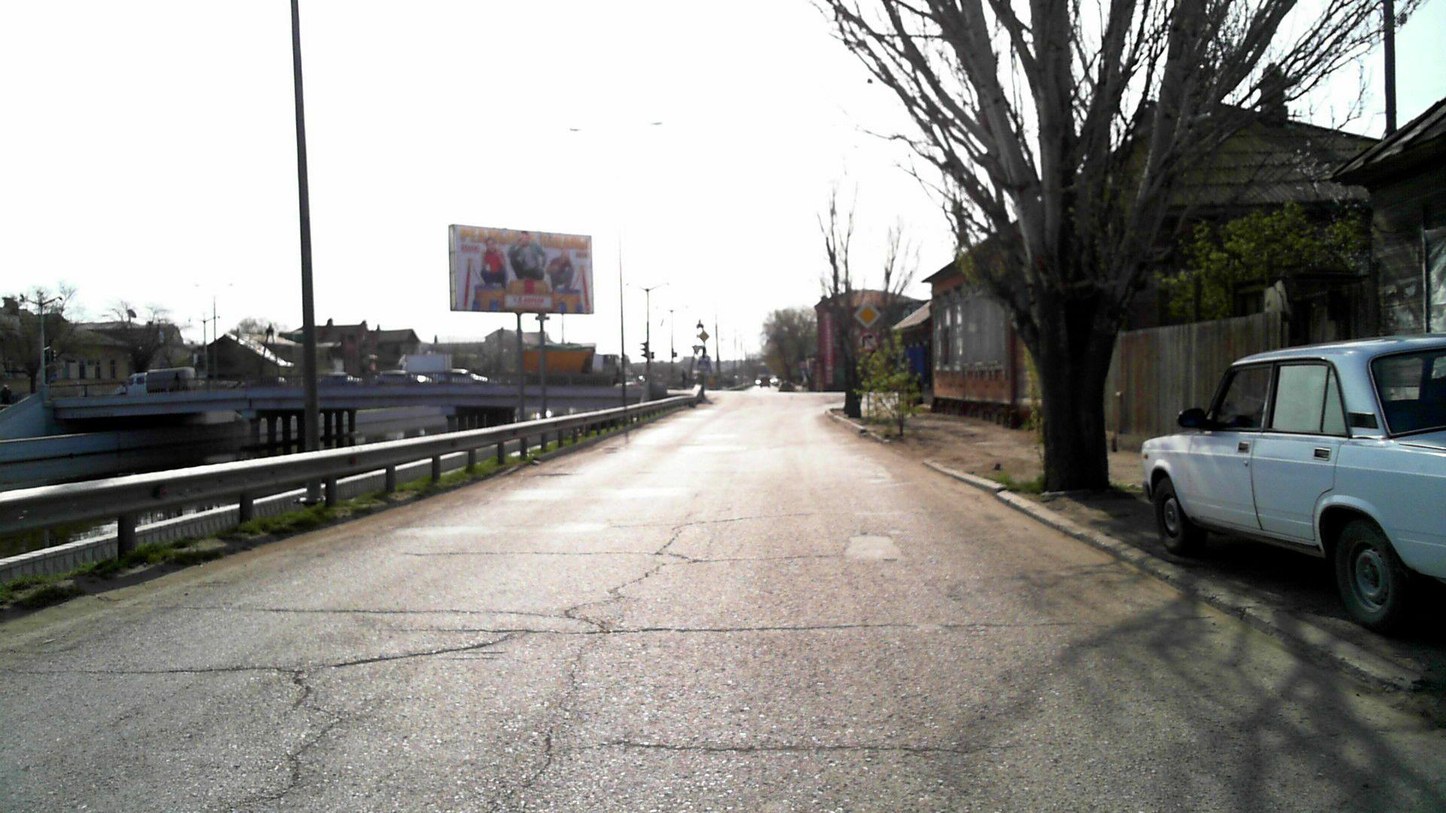road_sign: (855, 301, 882, 330), (855, 330, 880, 354)
